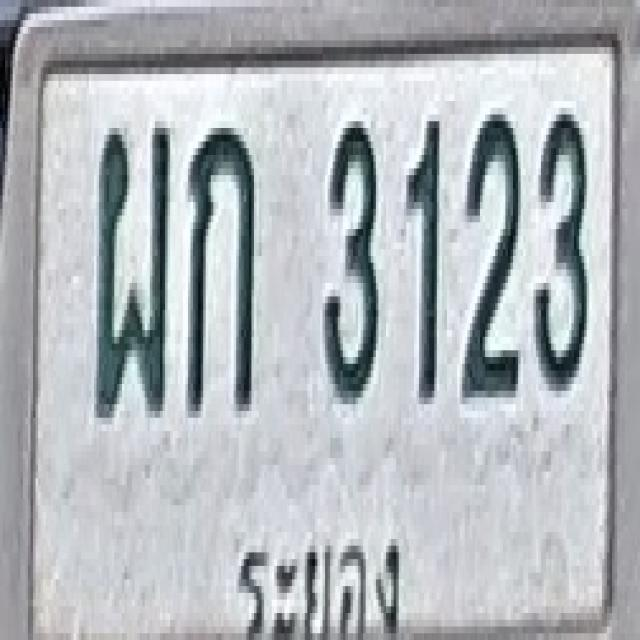1: (404, 115, 439, 404)
2: (462, 108, 521, 397)
3: (322, 115, 378, 404), (533, 108, 587, 391)
A01: (187, 121, 255, 411)
A28: (94, 121, 170, 418)
RYG: (226, 522, 410, 640)
